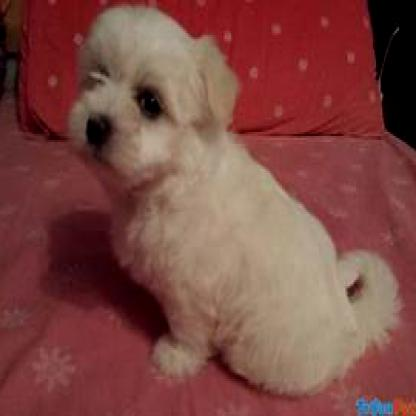dog: (69, 4, 401, 396)
